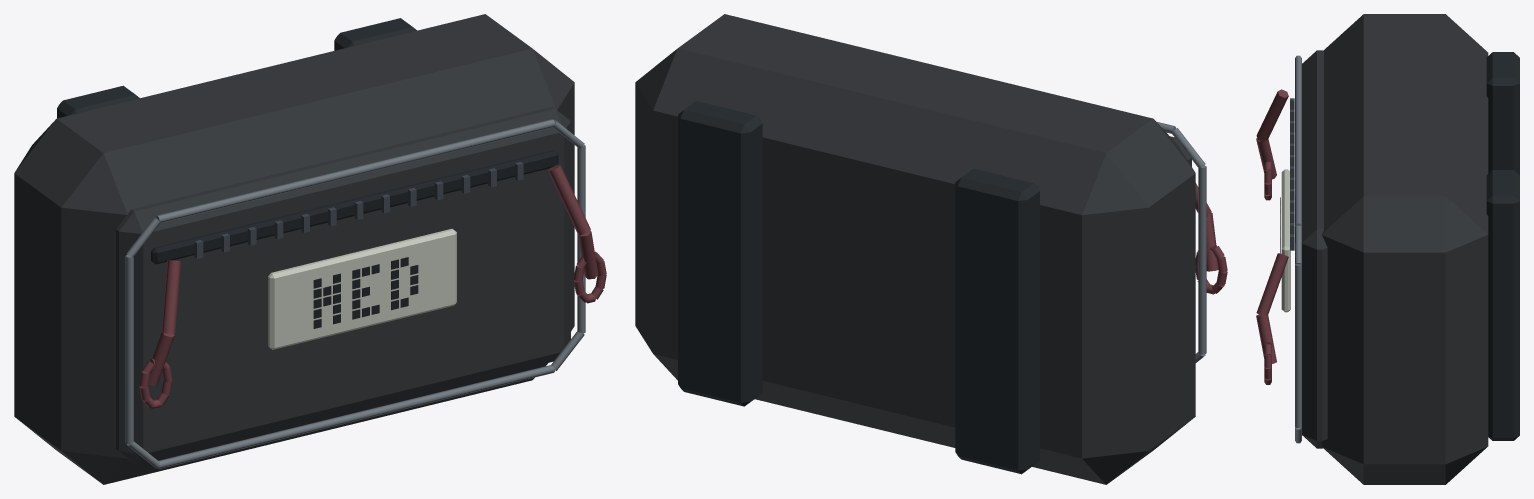
Rendered from medical-pouch.glb.
The picture shows the model from 3 angles, left to right: view 1: azimuth 30°, elevation 25°; view 2: azimuth 150°, elevation 25°; view 3: azimuth 270°, elevation 25°; orthographic projection. The views are drawn at different scales.
Parts seen in each view (by area): view 1: medical-pouch; view 2: medical-pouch; view 3: medical-pouch.
Part boxes in pixels (x1,y1,x2,y2): medical-pouch: [14, 14, 606, 484]; medical-pouch: [635, 14, 1227, 484]; medical-pouch: [1256, 14, 1519, 484].
Bounding box in the file's own units: 0.17 × 0.105 × 0.0869.
